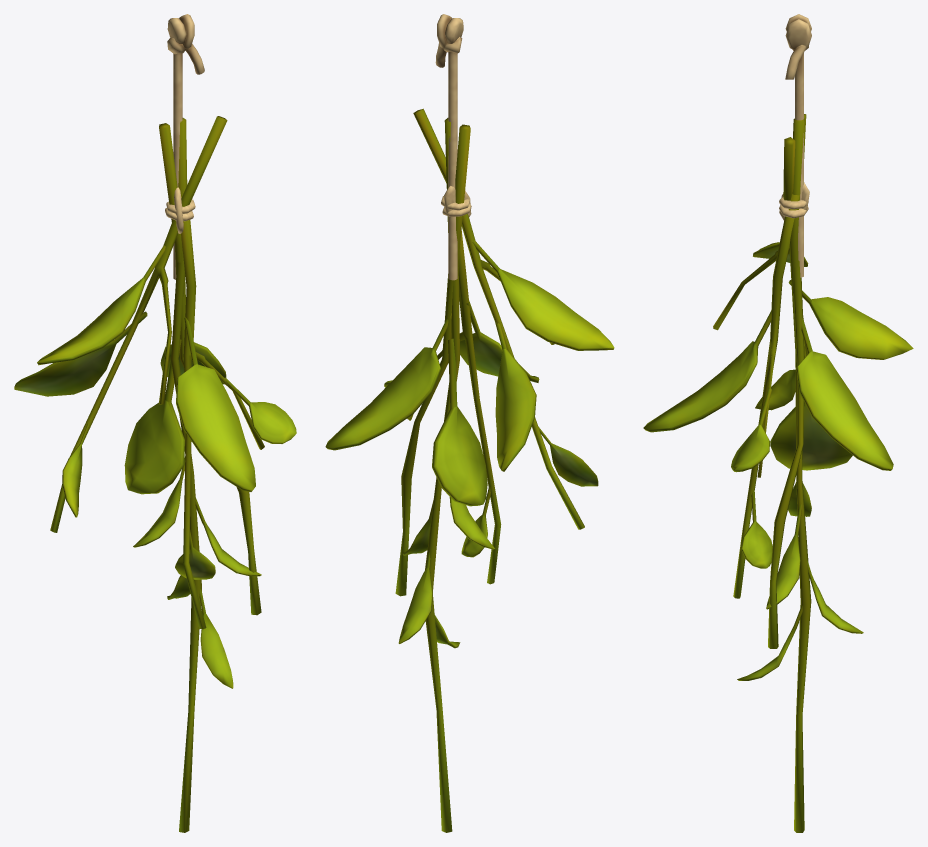
Rendered from Leaf.fbx.
3 views of the same model, side by side, from view 1: azimuth 30°, elevation 25°; view 2: azimuth 150°, elevation 25°; view 3: azimuth 270°, elevation 25° (orthographic).
Visible parts, largest first — view 1: U_Leaf; view 2: U_Leaf; view 3: U_Leaf.
Boxes of the visible parts, left/top/right/bottom form: U_Leaf: left=14, top=14, right=296, bottom=832; U_Leaf: left=325, top=14, right=614, bottom=832; U_Leaf: left=643, top=14, right=913, bottom=832.
Bounding box in the file's own units: 39.49 × 127 × 38.37.
Materials: 1 (1 with a texture image).
